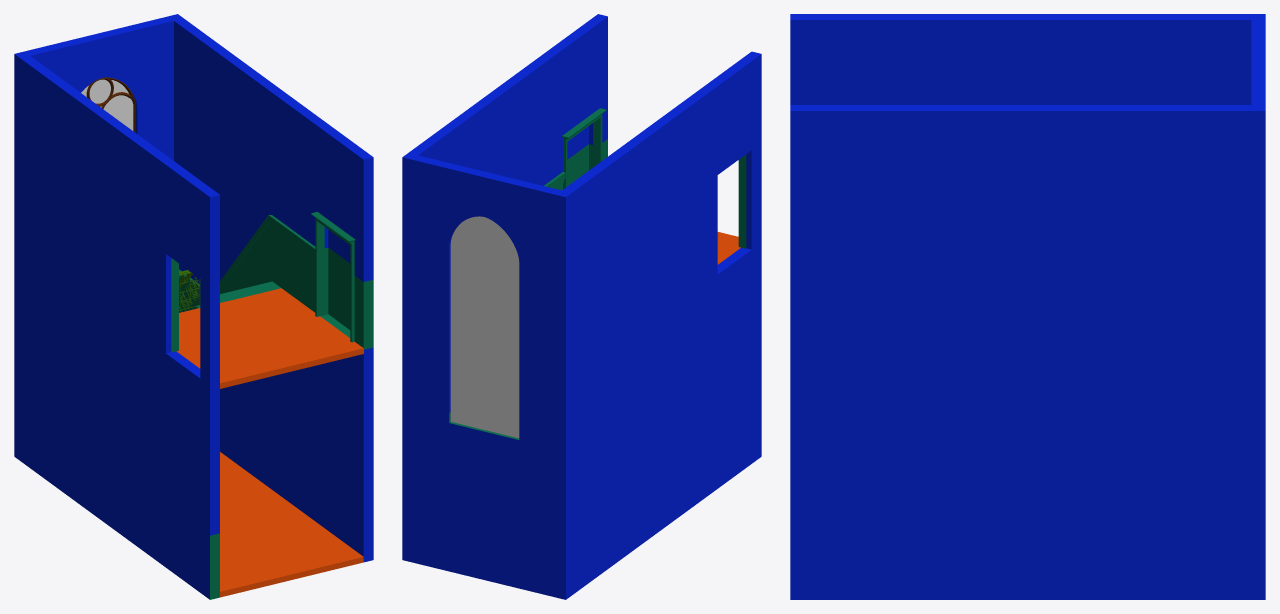
The model's file is StairsMesh3.fbx.
3 renders of one model, left to right at view 1: azimuth 30°, elevation 25°; view 2: azimuth 150°, elevation 25°; view 3: azimuth 270°, elevation 25°, orthographic. The views are drawn at different scales.
Parts seen in each view (by area): view 1: Walls, Walls.001, Cube, Cube.004, Cube.005, Cube.001, Fense, BézierCurve; view 2: Walls, Cube.005, Walls.001, Cube.004; view 3: Walls.
Boxes of the visible parts, x1=… form: Walls: x1=14, y1=14, x2=373, y2=599; Walls.001: x1=171, y1=212, x2=373, y2=599; Cube: x1=220, y1=452, x2=363, y2=597; Cube.004: x1=176, y1=288, x2=363, y2=388; Cube.005: x1=81, y1=79, x2=133, y2=130; Cube.001: x1=195, y1=281, x2=280, y2=308; Fense: x1=179, y1=274, x2=200, y2=312; BézierCurve: x1=86, y1=77, x2=135, y2=132; Walls: x1=402, y1=14, x2=761, y2=599; Cube.005: x1=450, y1=216, x2=519, y2=438; Walls.001: x1=449, y1=108, x2=746, y2=439; Cube.004: x1=717, y1=232, x2=740, y2=264; Walls: x1=790, y1=14, x2=1265, y2=599.
Bounding box in the file's own units: 905 × 2130 × 1877.
